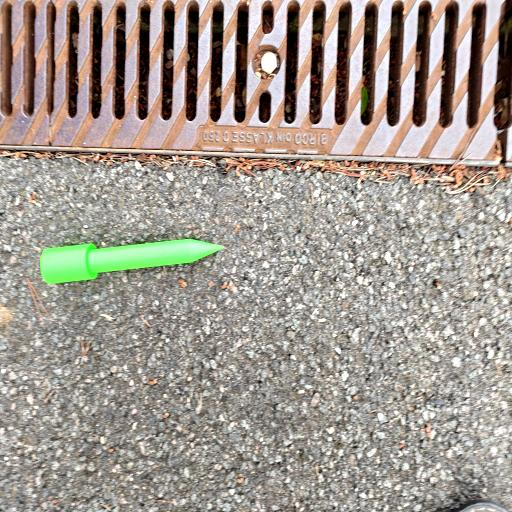Probe-Detection: (40, 239, 224, 284)
